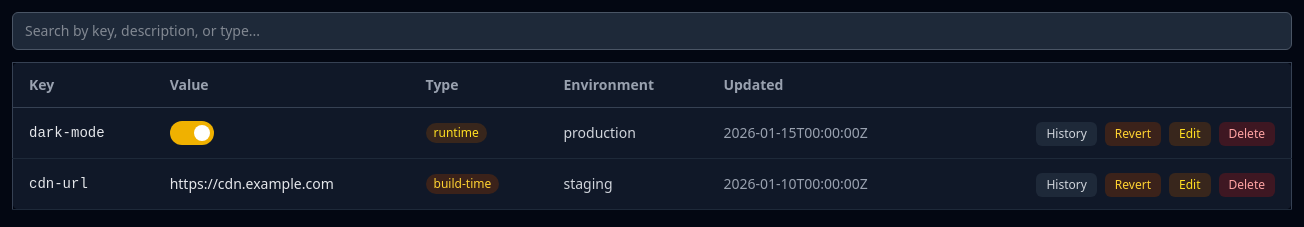
FlagTable › search/filter › filters flags by key
Type "dark" into the field with placeholder "Search by key, description, or type..." at (652, 31), box [12,12,1292,50]
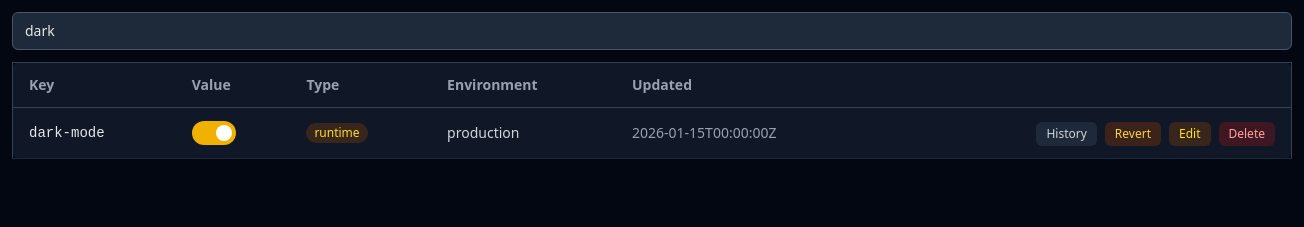
expect the text "cdn-url" is gone: met
